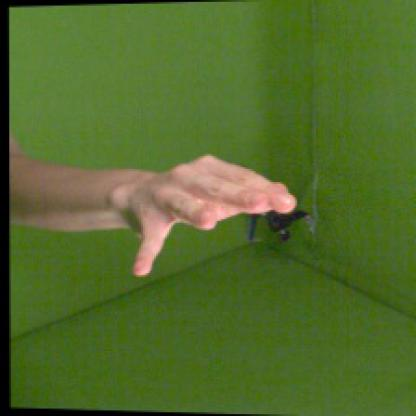Hand: (132, 154, 296, 276)
